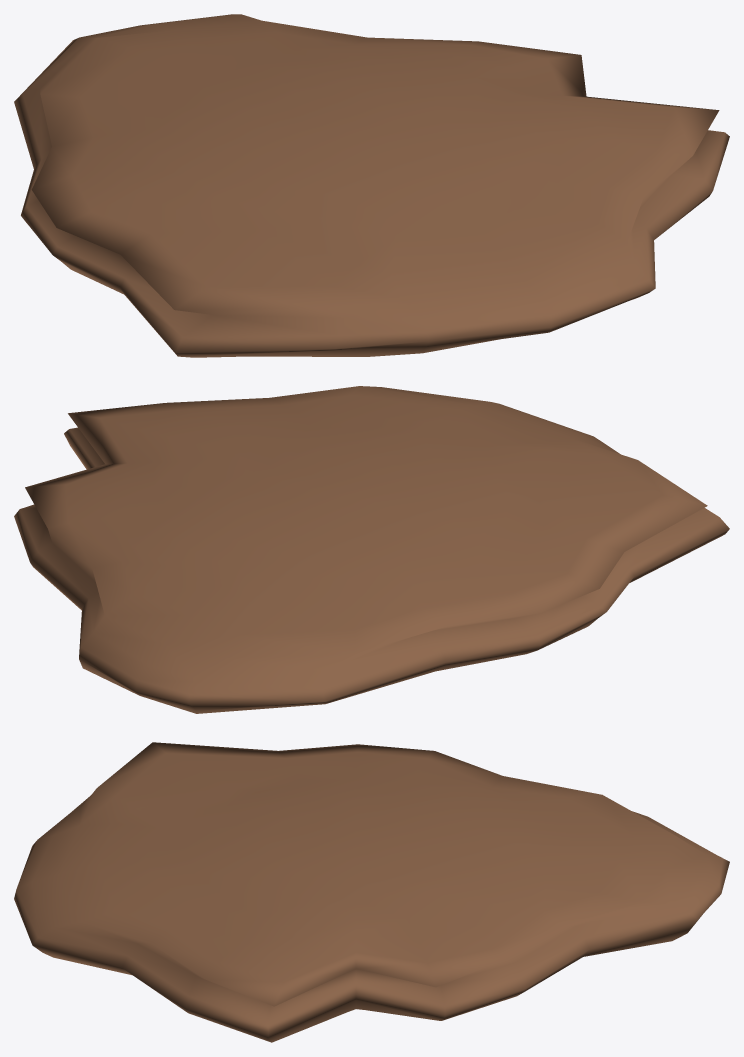
File: Blob Animation Brown.fbx
The picture shows the model from 3 angles, top to bottom: view 1: azimuth 30°, elevation 25°; view 2: azimuth 150°, elevation 25°; view 3: azimuth 270°, elevation 25°; orthographic projection. The views are drawn at different scales.
Parts seen in each view (by area): view 1: pSphere4; view 2: pSphere4; view 3: pSphere4.
Part boxes in pixels (x1,y1,x2,y2): pSphere4: (14,14,729,357); pSphere4: (14,386,729,713); pSphere4: (14,742,729,1042).
Size of the model in its own units: 6.88 by 1.22 by 7.66.
